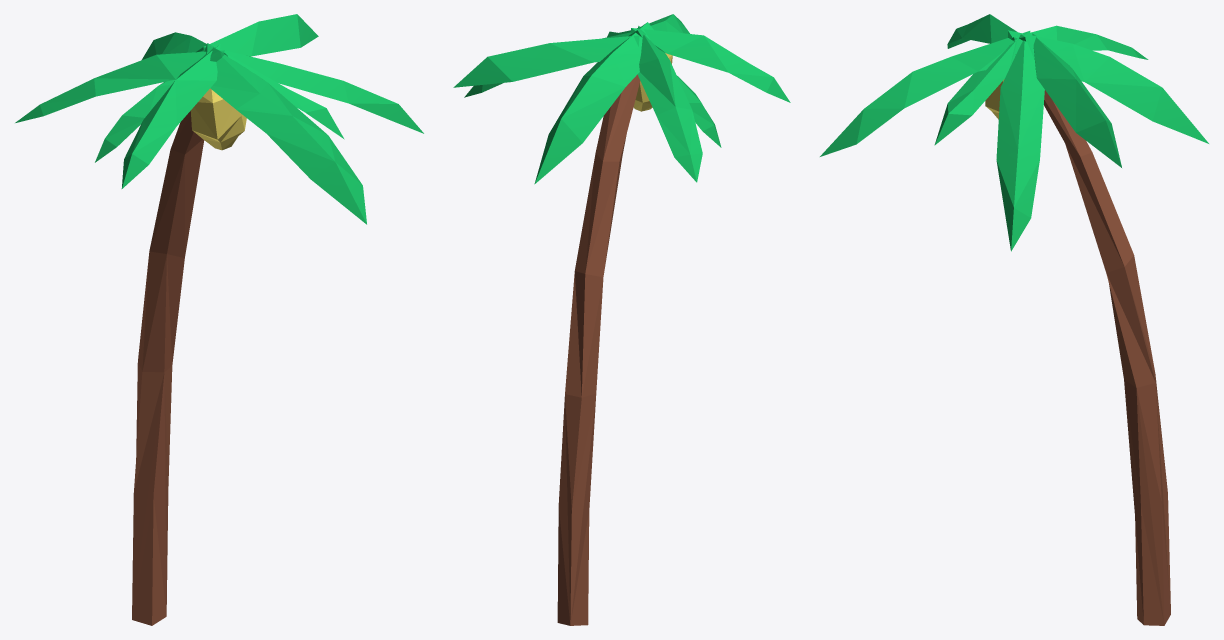
The model's file is Tree_11_gradient_green_pal.fbx.
The picture shows the model from 3 angles, left to right: view 1: azimuth 30°, elevation 25°; view 2: azimuth 150°, elevation 25°; view 3: azimuth 270°, elevation 25°; orthographic projection. The views are drawn at different scales.
Visible parts, largest first — view 1: Tree_11_gradient_green_pal; view 2: Tree_11_gradient_green_pal; view 3: Tree_11_gradient_green_pal.
Boxes of the visible parts, left/top/right/bottom form: Tree_11_gradient_green_pal: left=15, top=14, right=423, bottom=625; Tree_11_gradient_green_pal: left=453, top=14, right=790, bottom=625; Tree_11_gradient_green_pal: left=820, top=14, right=1208, bottom=625.
Size of the model in its own units: 117 by 207 by 124.
